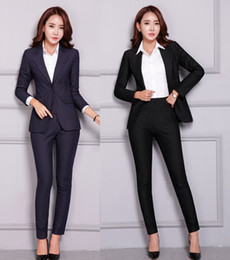F_W_suit jacket: (113, 44, 201, 132), (11, 48, 88, 133)
